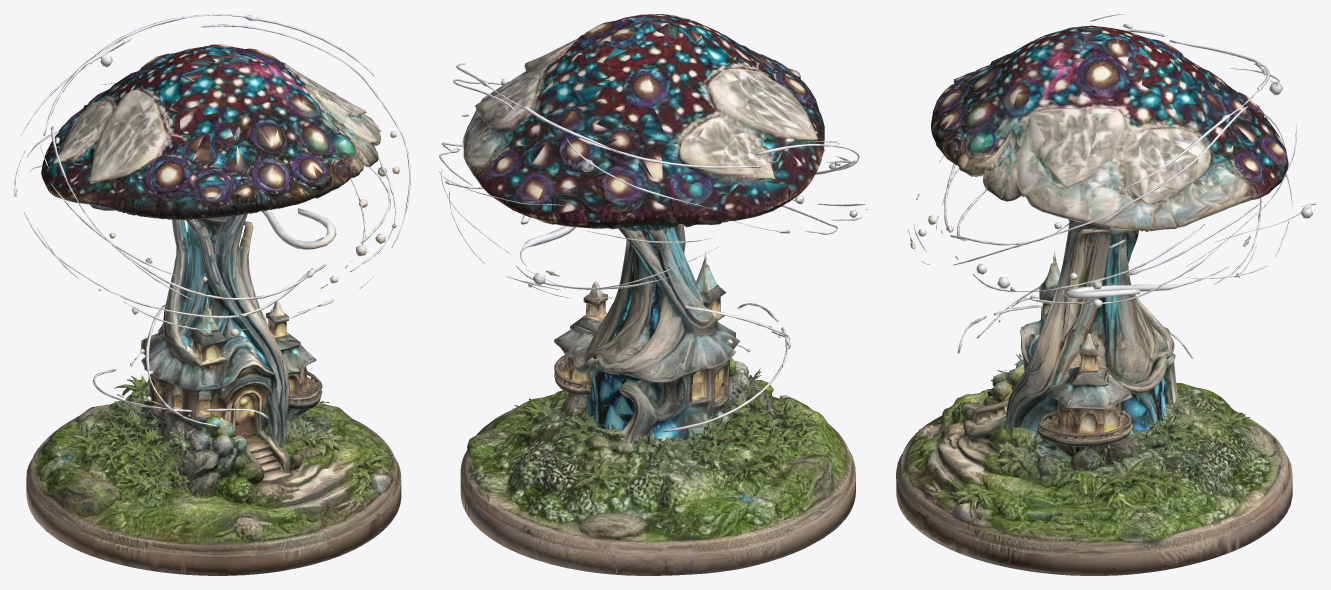
Rendered from Nova_Shroom.glb.
3 renders of one model, left to right at view 1: azimuth 30°, elevation 25°; view 2: azimuth 150°, elevation 25°; view 3: azimuth 270°, elevation 25°, orthographic. The views are drawn at different scales.
Visible parts, largest first — view 1: Nova_Shroom; view 2: Nova_Shroom; view 3: Nova_Shroom.
Boxes of the visible parts, left/top/right/bottom form: Nova_Shroom: left=14, top=14, right=410, bottom=575; Nova_Shroom: left=439, top=14, right=867, bottom=575; Nova_Shroom: left=896, top=14, right=1316, bottom=575.
Size of the model in its own units: 1.56 by 1.9 by 1.57.
1 material, 1 textured.
